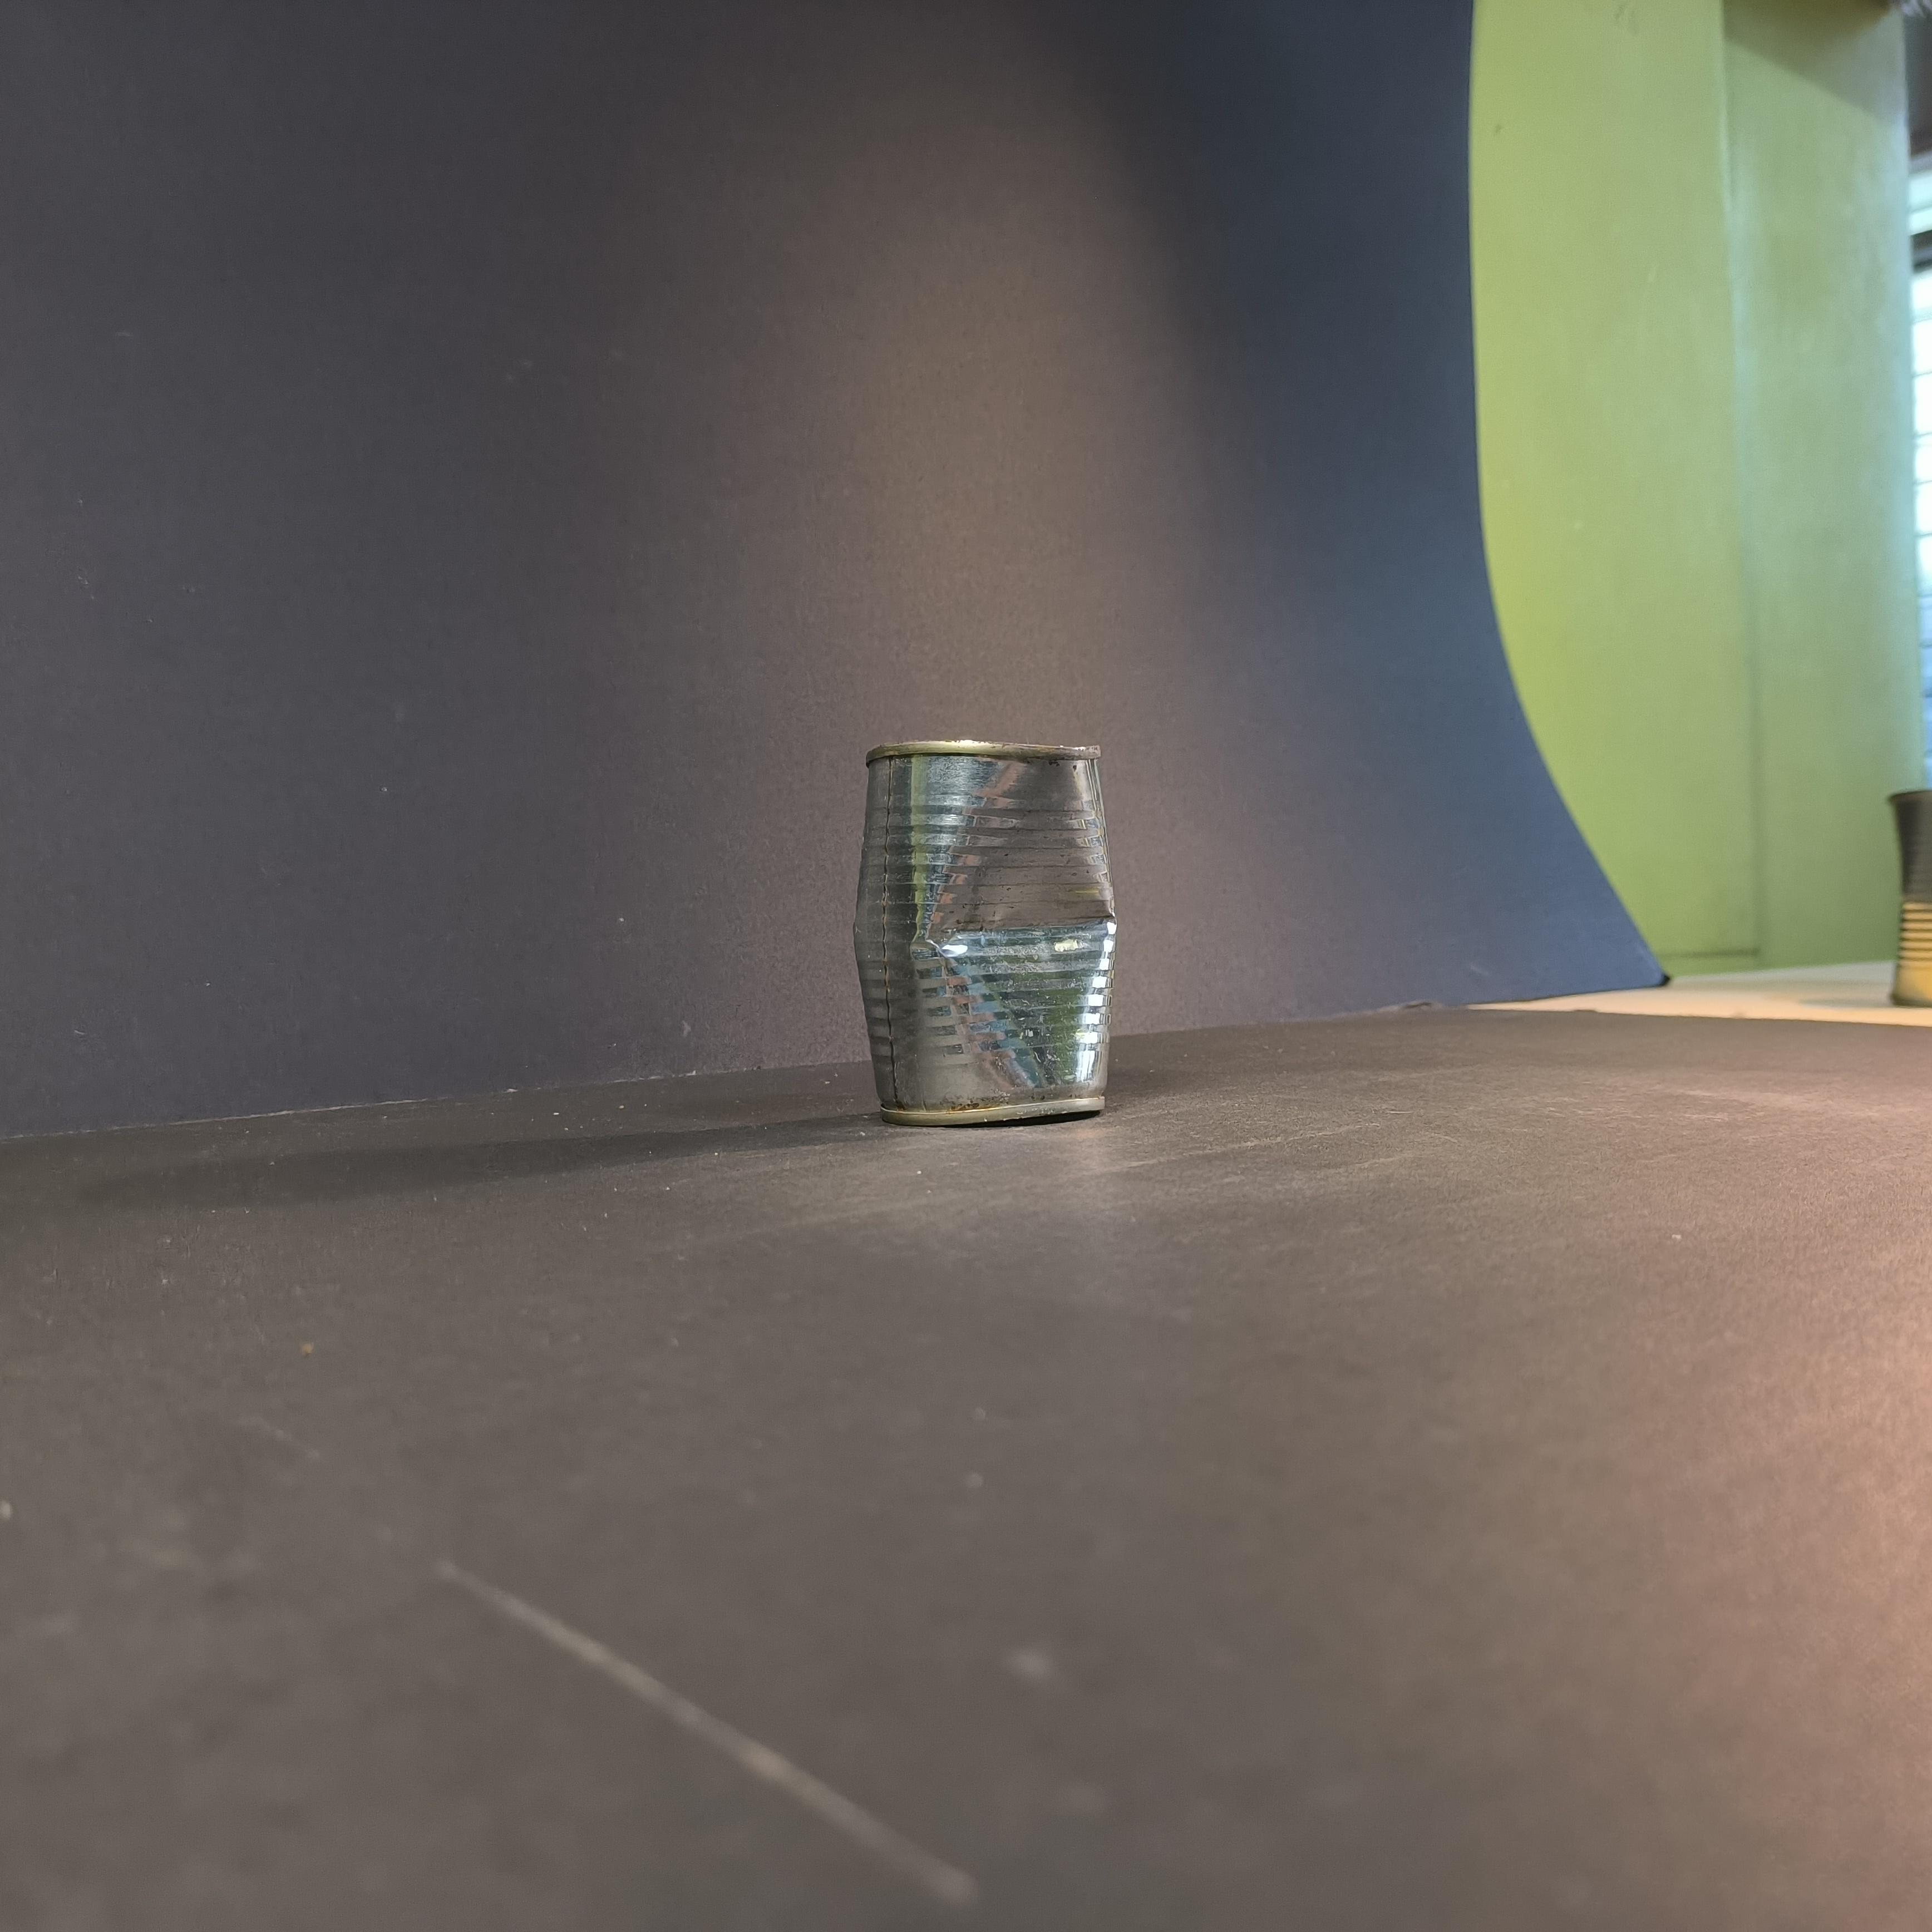Dented: (821, 729, 1138, 1143)
